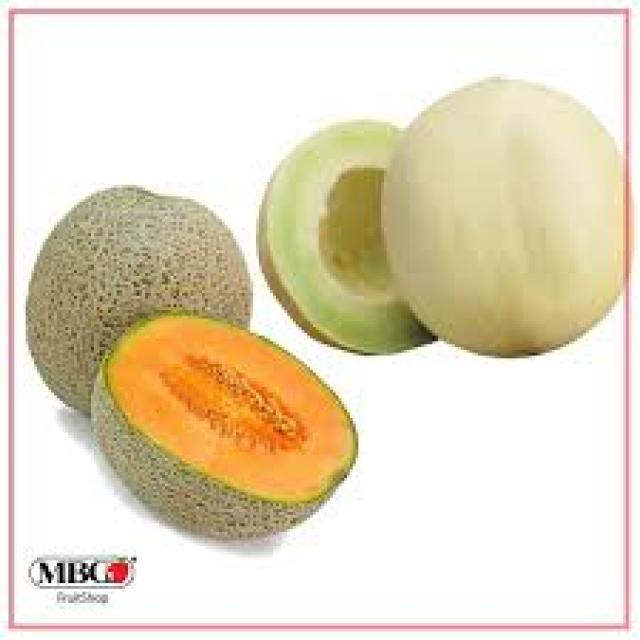cantaloupe: (92, 314, 358, 541), (28, 185, 252, 417)
